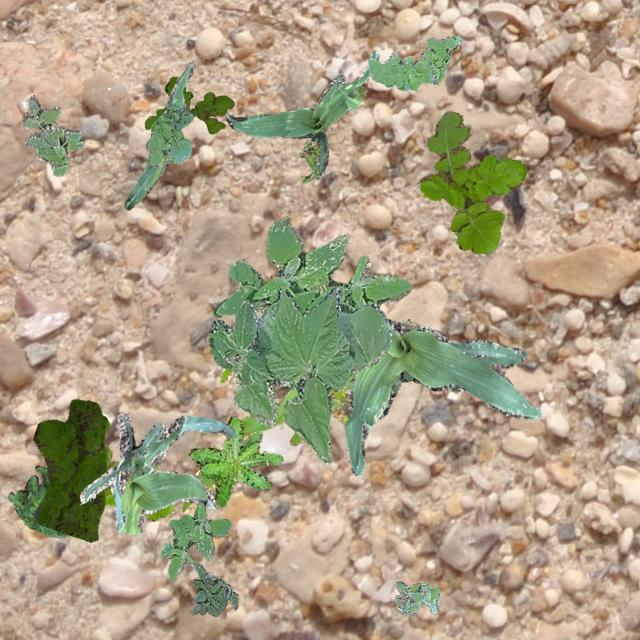crop: (208, 286, 390, 462), (344, 318, 540, 474), (182, 367, 352, 512), (225, 48, 378, 172), (79, 412, 235, 532), (124, 60, 194, 208)
weed: (212, 214, 430, 330), (418, 110, 526, 252), (32, 398, 108, 540), (188, 416, 282, 506), (158, 502, 230, 582), (366, 35, 462, 89), (19, 94, 82, 174), (144, 76, 234, 132), (104, 446, 172, 520), (6, 464, 68, 536), (144, 102, 192, 166), (190, 560, 237, 614), (394, 580, 438, 614), (298, 138, 320, 182)
